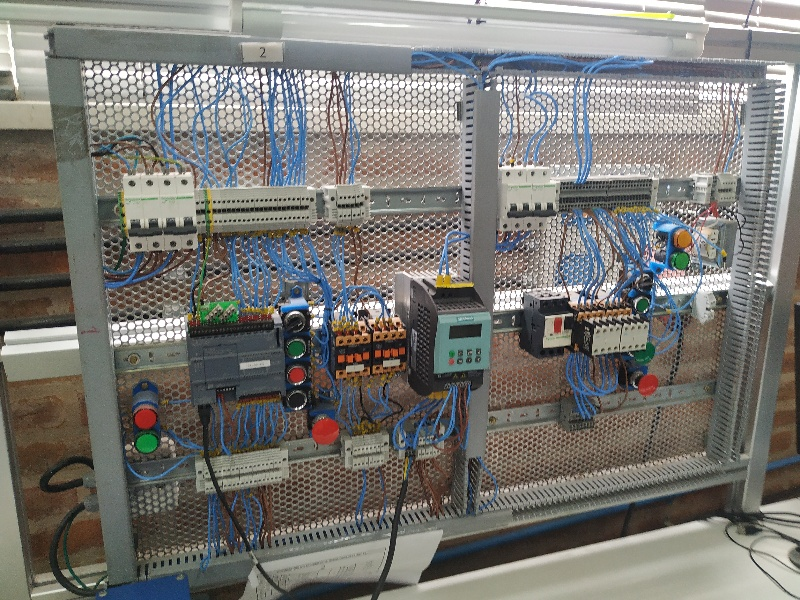Tablero 2: (82, 50, 777, 577)
